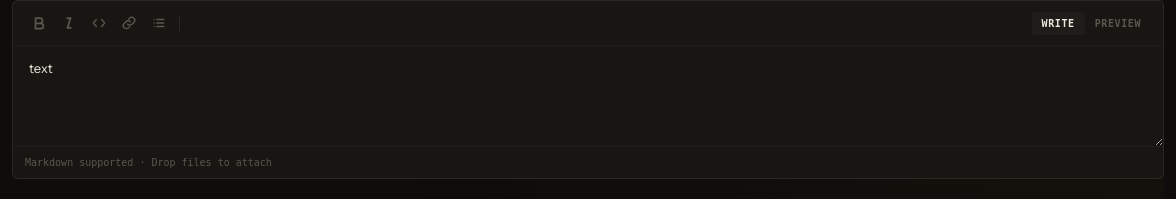
Scenario: MarkdownEditor › switches back to write mode
Click the button "Preview" at (1118, 23), box [1085,12,1151,34]
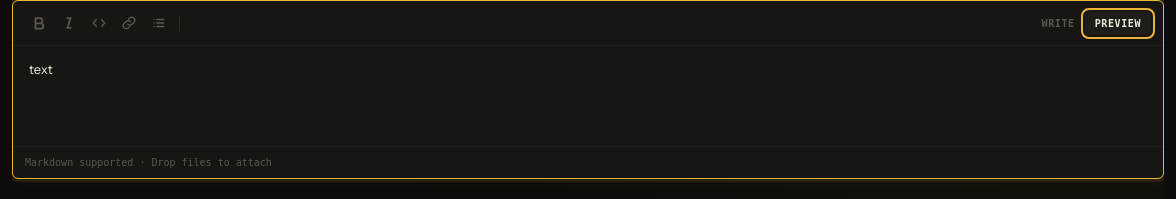
Click the button "Write" at (1058, 23), box [1032,12,1085,34]
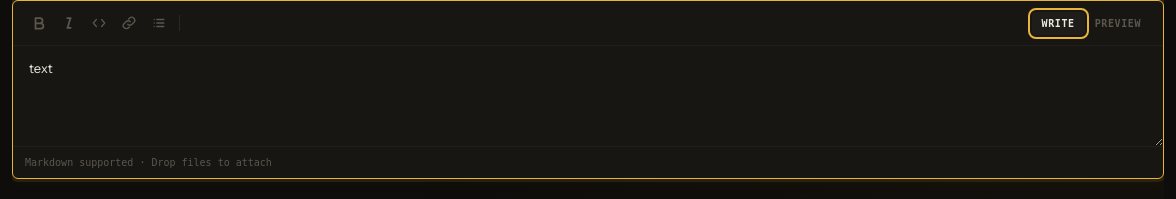
Check: the text box named "Markdown editor" is shown, box [13,46,1163,146]
